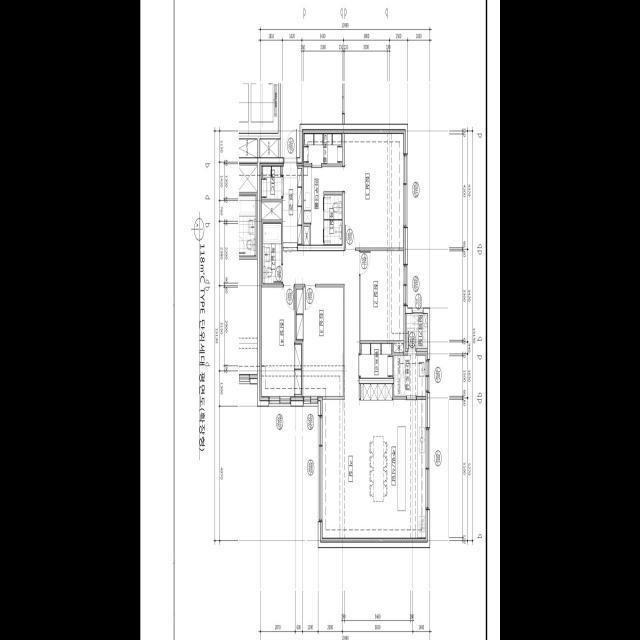background: (140, 0, 500, 640)
space_bedroom: (345, 134, 405, 248), (295, 287, 343, 400), (261, 287, 301, 400), (360, 251, 405, 340)
space_dressroom: (303, 134, 342, 164)
space_elevator_hall: (280, 83, 342, 158)
space_front: (283, 163, 302, 247)
space_kitchen: (360, 384, 427, 538)
space_living_room: (283, 250, 369, 538)
space_other: (304, 167, 342, 245), (394, 355, 427, 396), (360, 344, 392, 378), (261, 166, 281, 199), (261, 202, 281, 220), (260, 139, 278, 158), (303, 227, 309, 245), (394, 343, 403, 352)
space_outdoor_room: (406, 314, 427, 349)
space_toilet: (263, 224, 281, 284), (323, 195, 342, 245)
